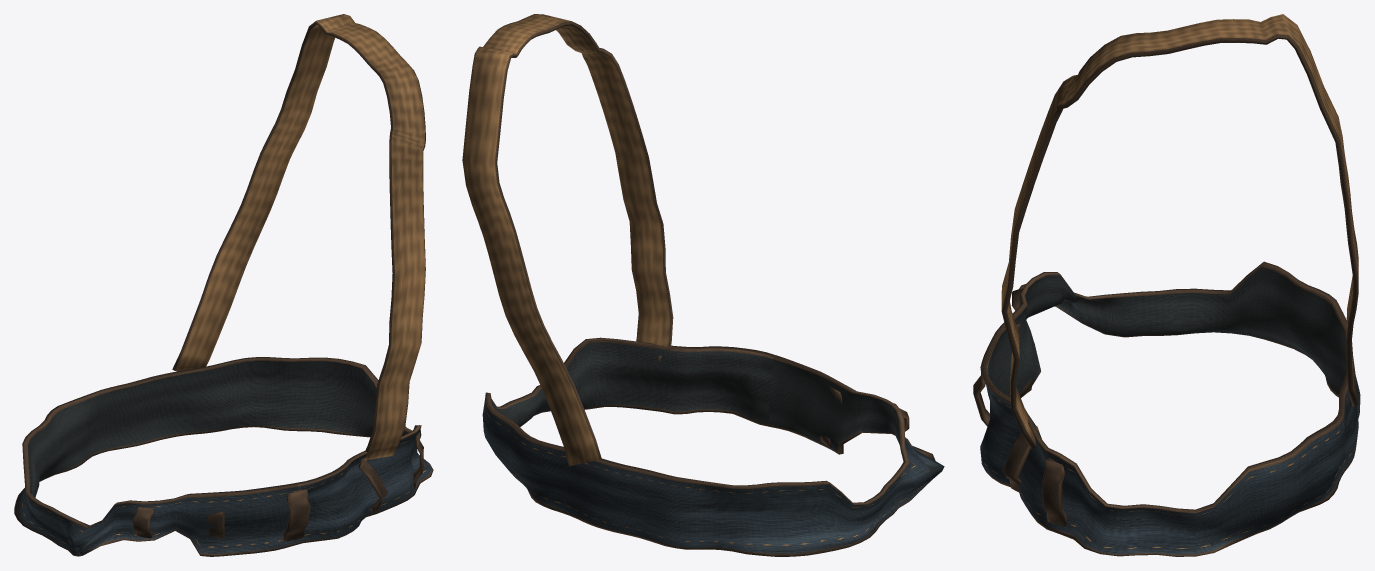
The model's file is BeltBodyV2.fbx.
The picture shows the model from 3 angles, left to right: view 1: azimuth 30°, elevation 25°; view 2: azimuth 150°, elevation 25°; view 3: azimuth 270°, elevation 25°; orthographic projection. The views are drawn at different scales.
Parts seen in each view (by area): view 1: BeltBodyV2_LOD0; view 2: BeltBodyV2_LOD0; view 3: BeltBodyV2_LOD0.
Part boxes in pixels (x1,y1,x2,y2): BeltBodyV2_LOD0: [14, 14, 433, 556]; BeltBodyV2_LOD0: [462, 14, 944, 556]; BeltBodyV2_LOD0: [973, 14, 1360, 556].
Size of what is drawn, in the model's own units: 36.37 by 37.51 by 25.66.
